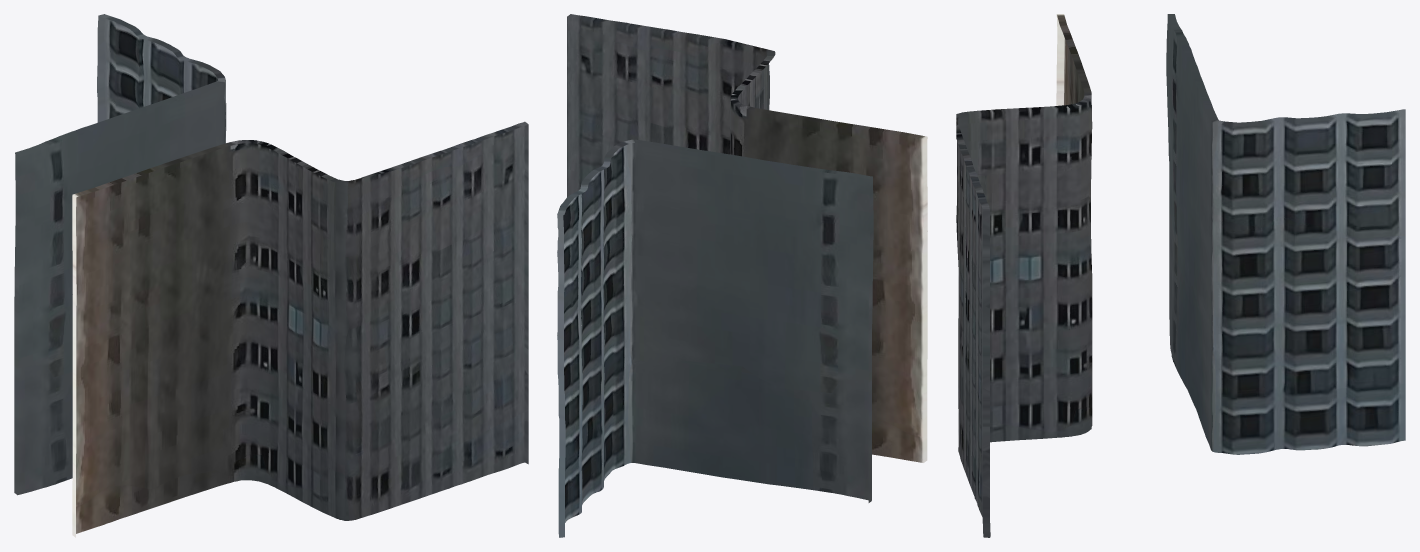
The model's file is z20-167748-405242-h1-yup-uvflip-v3-world.glb.
The picture shows the model from 3 angles, left to right: view 1: azimuth 30°, elevation 25°; view 2: azimuth 150°, elevation 25°; view 3: azimuth 270°, elevation 25°; orthographic projection. The views are drawn at different scales.
Size of the model in its own units: 30.16 by 23.72 by 29.36.
1 material, 1 textured.
